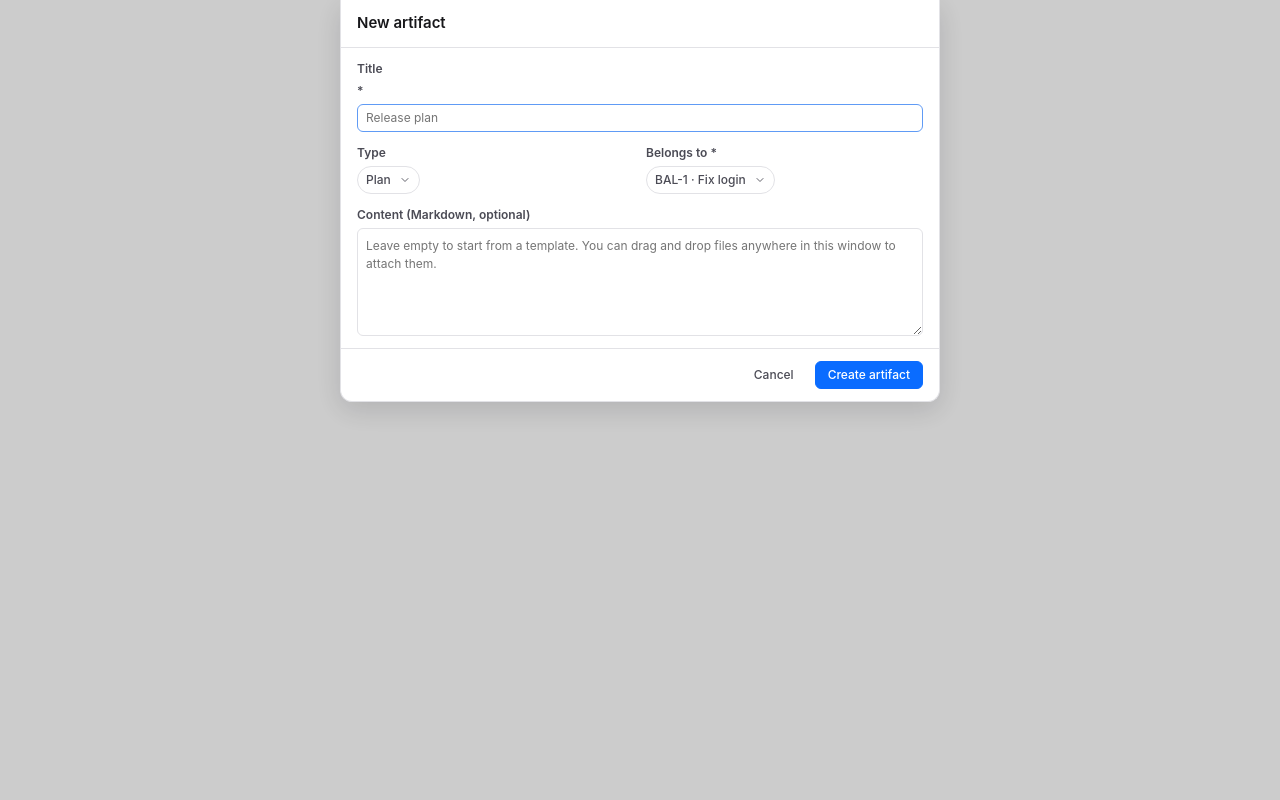
Test: NewArtifactDialog › offers tasks and milestones in one Belongs to list
Step 1. Click the button with aria-label "Belongs to" → (710, 180), box [646,166,775,194]
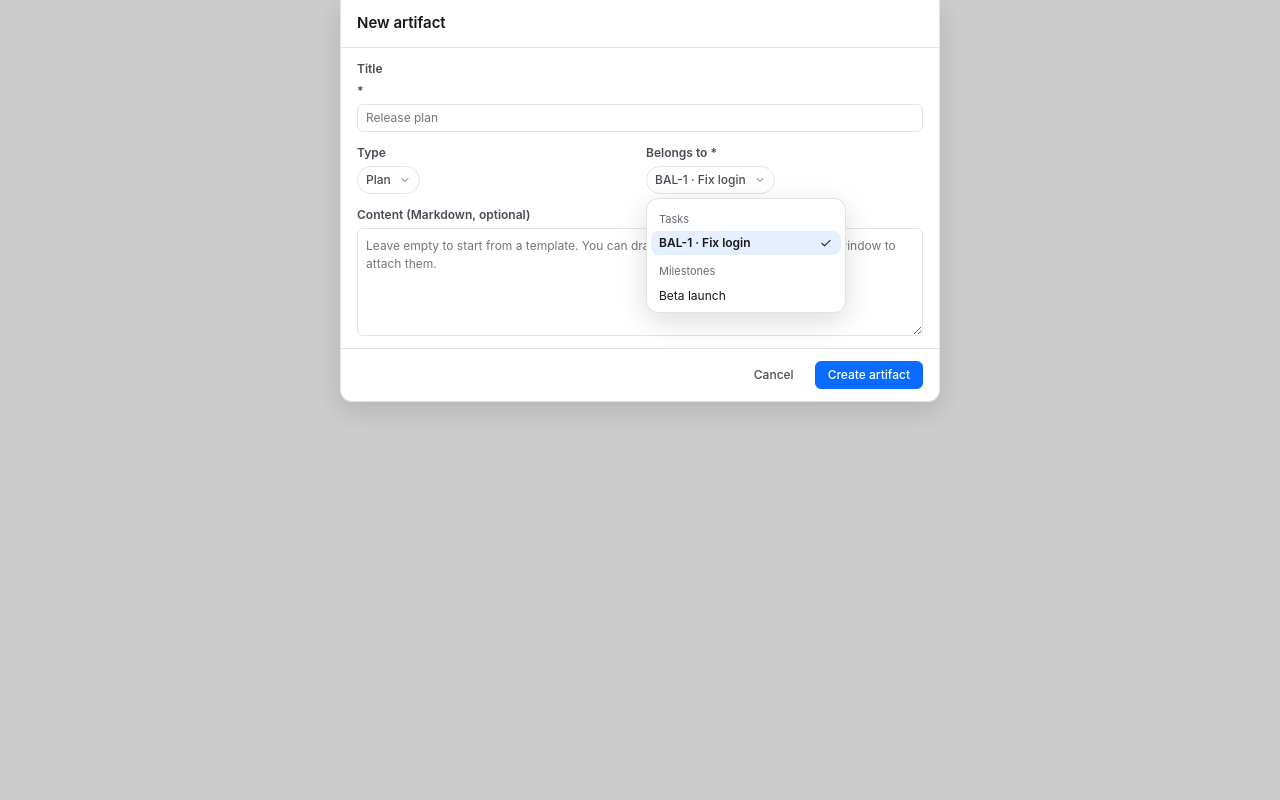
Now the text "Tasks" is shown, box [659,212,689,226]
Now the text "Milestones" is shown, box [659,264,715,278]
Now the option "BAL-1 · Fix login" is shown, box [651,231,841,255]
